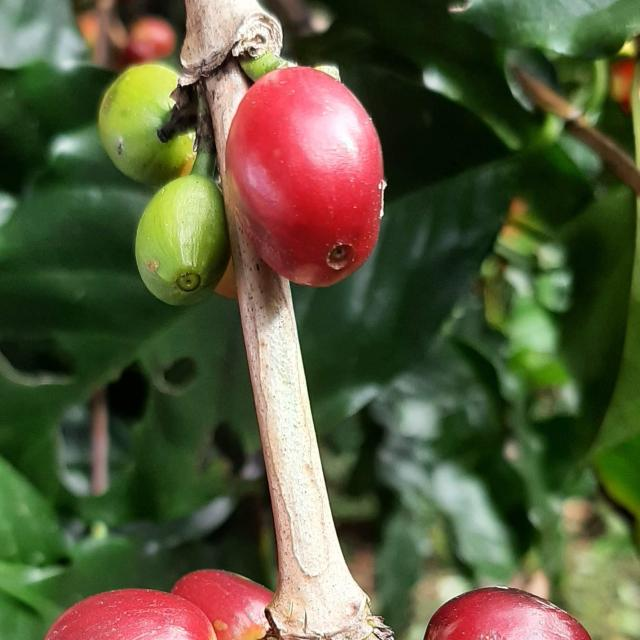green: (135, 174, 230, 305), (97, 63, 195, 185)
red: (226, 66, 385, 287), (43, 590, 217, 640), (425, 588, 592, 640), (171, 570, 273, 640)
